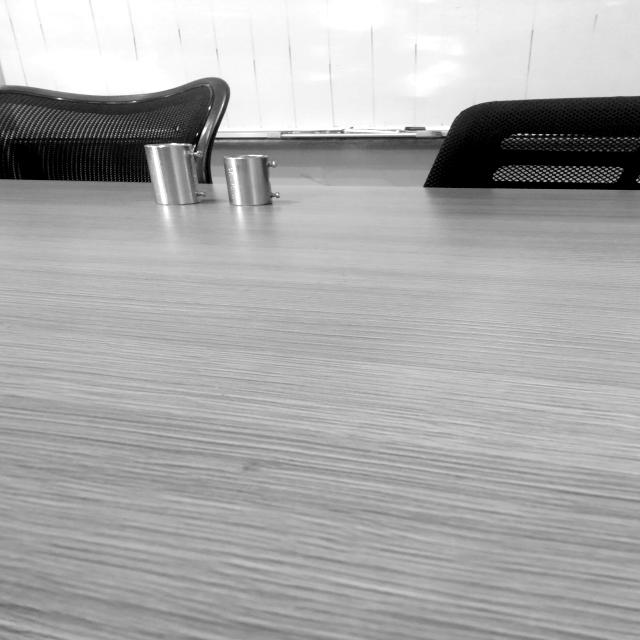Co_Lon: (144, 141, 207, 207)
Co_Nho: (223, 150, 282, 209)
